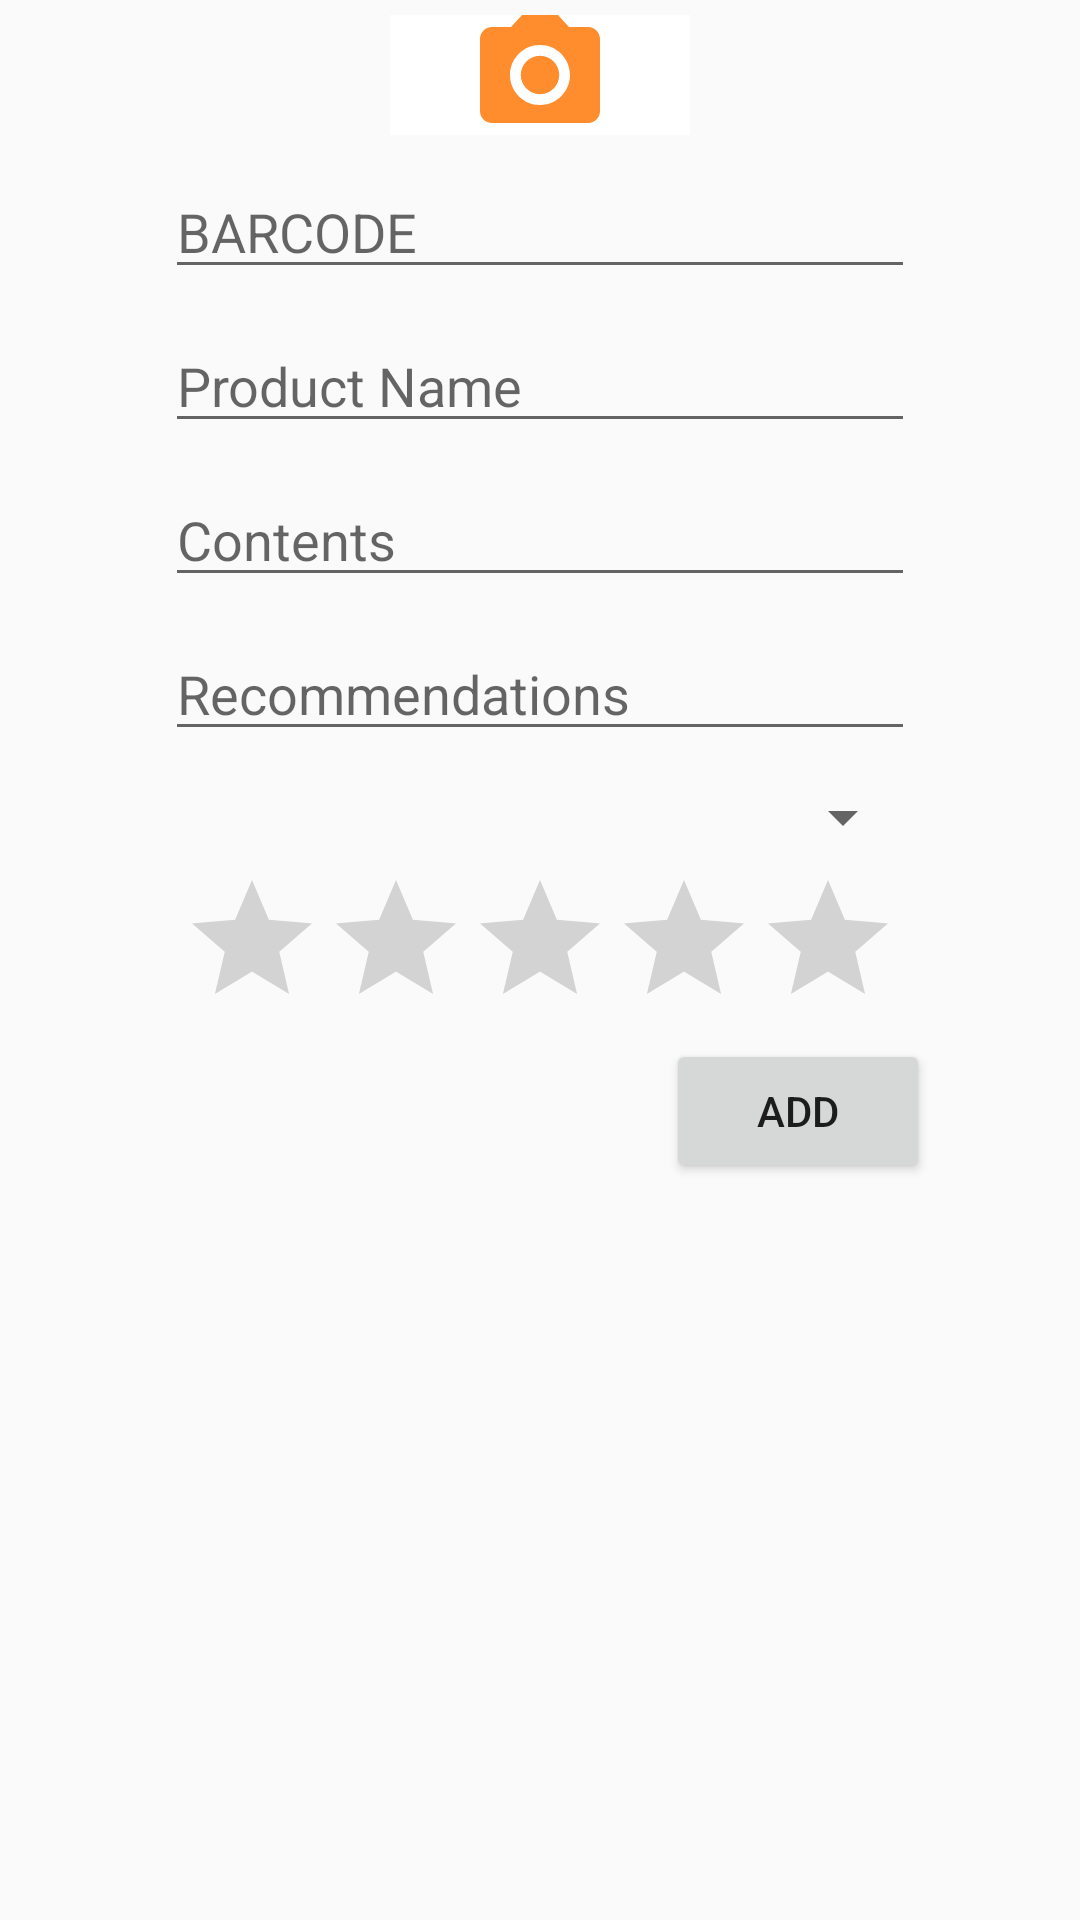

Screen size 1080*1920. Icon name, then its center in pixels as [x,y]:
cam: [540,69]
